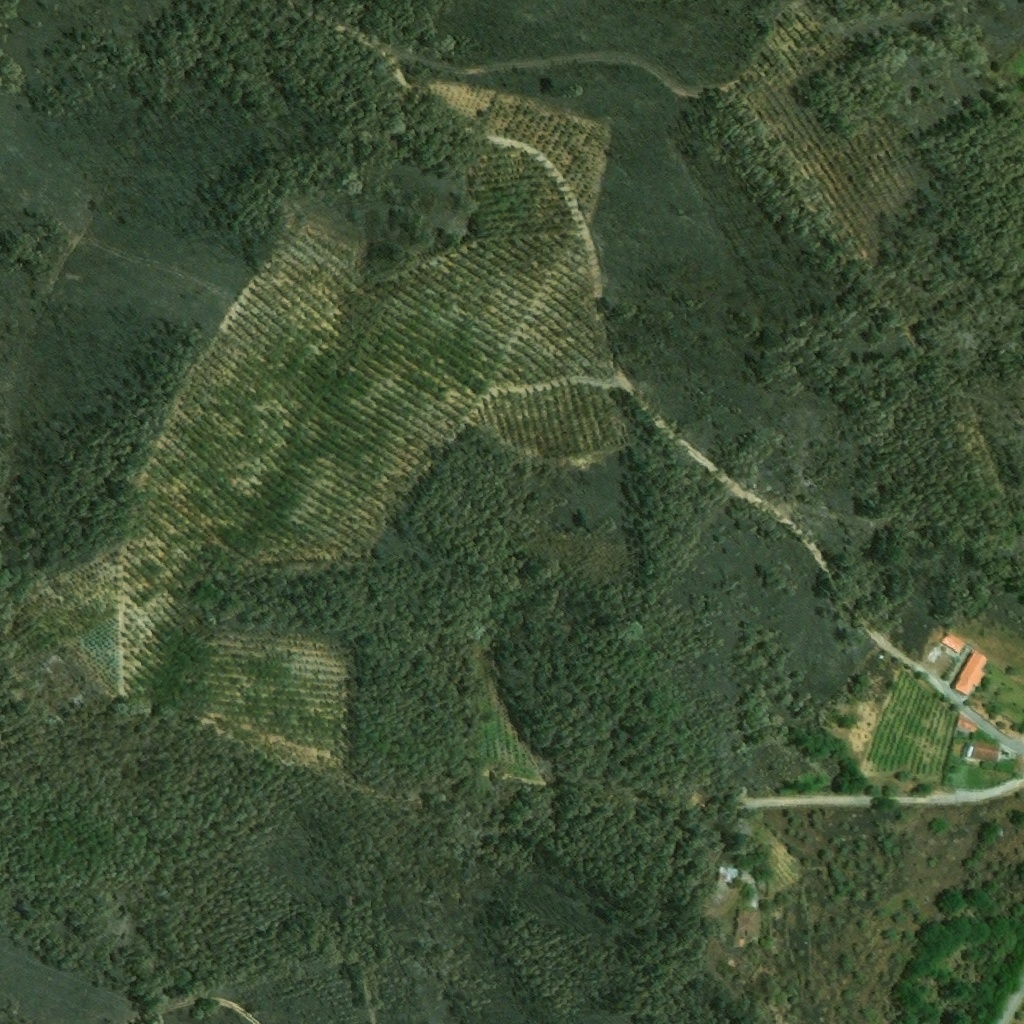0 no-damage: (950, 649, 990, 697), (731, 908, 760, 947), (940, 631, 969, 656), (971, 741, 1003, 763), (956, 713, 980, 734)
4 un-classified: (749, 961, 779, 990), (1015, 754, 1023, 772)
